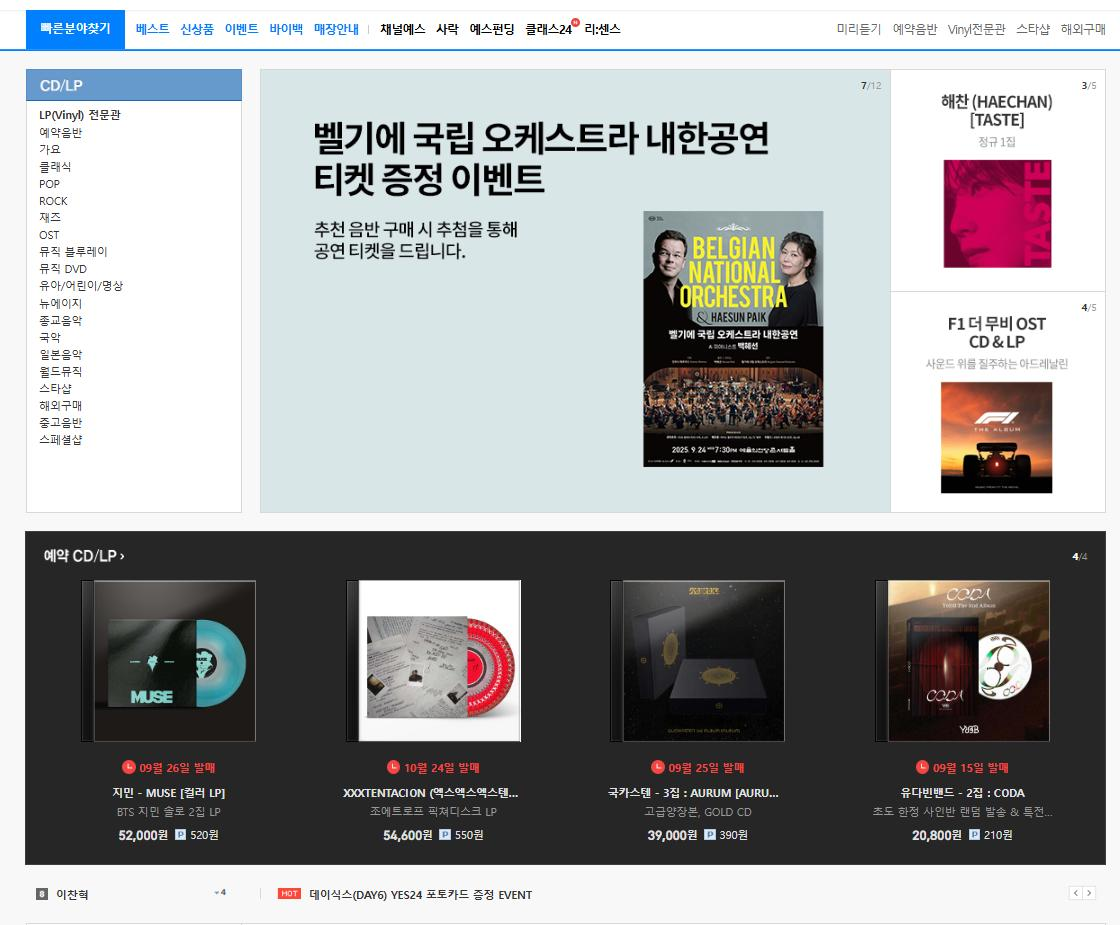button: (455, 19, 518, 46), (368, 22, 429, 45), (519, 21, 575, 41), (129, 19, 166, 48), (39, 279, 125, 291), (263, 18, 306, 42), (956, 25, 1021, 39), (41, 108, 123, 119), (585, 19, 641, 34), (36, 121, 79, 139), (840, 24, 891, 39), (173, 22, 211, 42), (36, 246, 114, 255), (431, 21, 460, 41), (39, 260, 91, 271), (38, 353, 88, 364), (313, 22, 344, 38), (40, 420, 85, 431), (225, 20, 251, 39), (36, 319, 88, 328), (41, 401, 84, 411), (36, 226, 66, 240), (904, 24, 939, 36), (34, 193, 70, 204), (38, 301, 85, 309), (43, 369, 82, 378), (39, 208, 65, 221), (40, 334, 72, 343), (46, 161, 69, 173), (39, 439, 84, 445), (1022, 24, 1045, 35), (1070, 21, 1106, 28), (36, 146, 70, 153), (44, 385, 68, 391), (43, 177, 56, 185)
